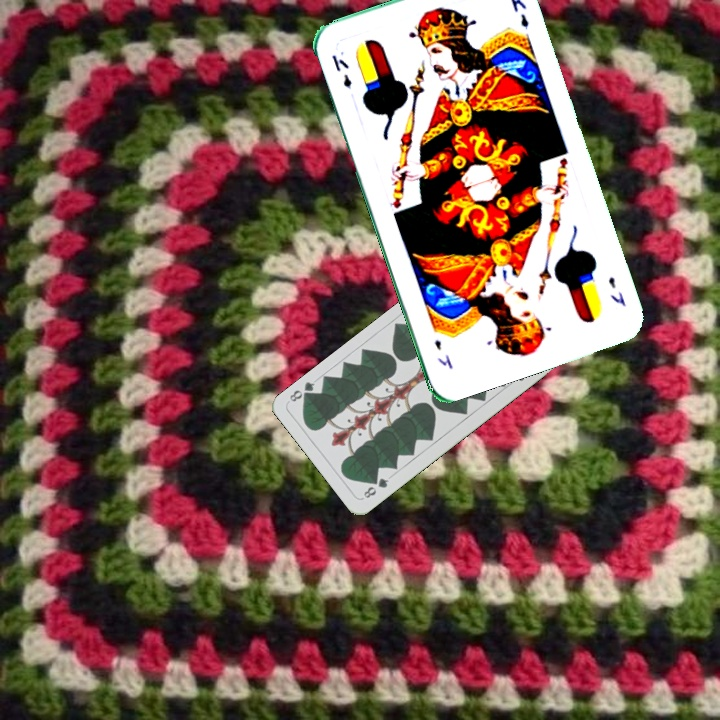EK: (327, 51, 355, 92), (604, 272, 628, 309)
G8: (359, 474, 391, 501)
